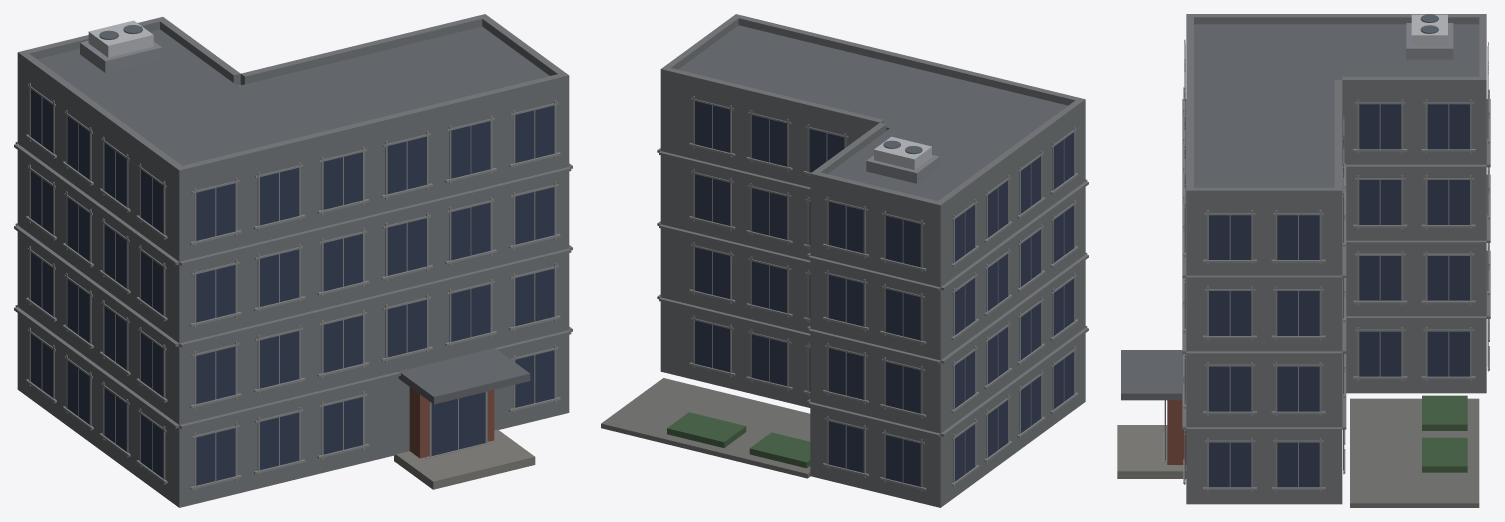
Rendered from civic_corner_06x02_lvl1.glb.
The picture shows the model from 3 angles, left to right: view 1: azimuth 30°, elevation 25°; view 2: azimuth 150°, elevation 25°; view 3: azimuth 270°, elevation 25°; orthographic projection. The views are drawn at different scales.
Visible parts, largest first — view 1: civic_corner_06x02; view 2: civic_corner_06x02; view 3: civic_corner_06x02.
Boxes of the visible parts, x1,y1,x2,y2 form: civic_corner_06x02: (14,14,572,507); civic_corner_06x02: (601,14,1088,507); civic_corner_06x02: (1117,14,1490,507).
Size of the model in its own units: 1 by 0.8898 by 0.8764.
